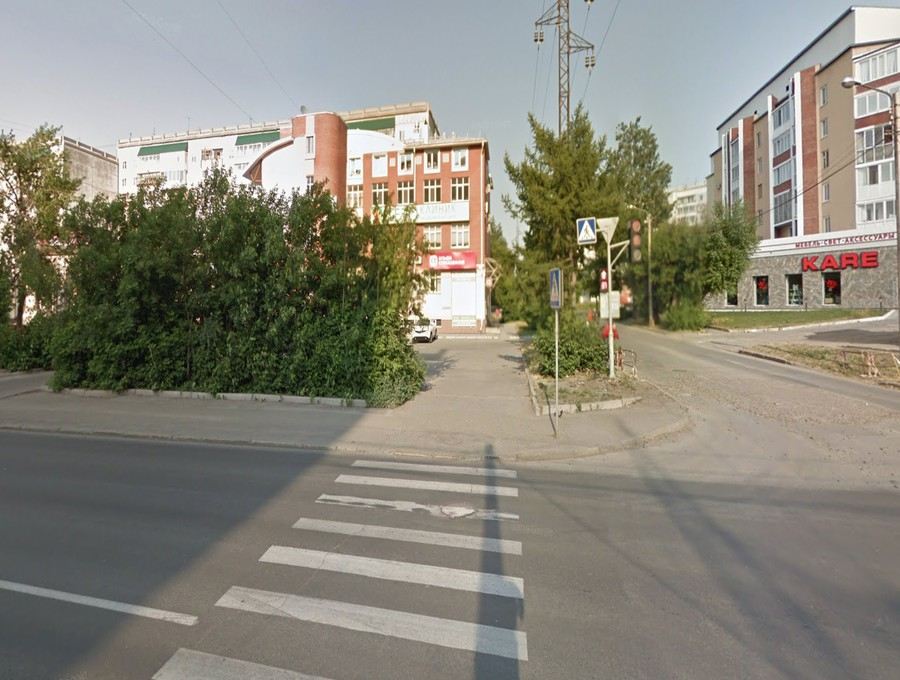Traffic Light-red: (595, 263, 613, 298)
